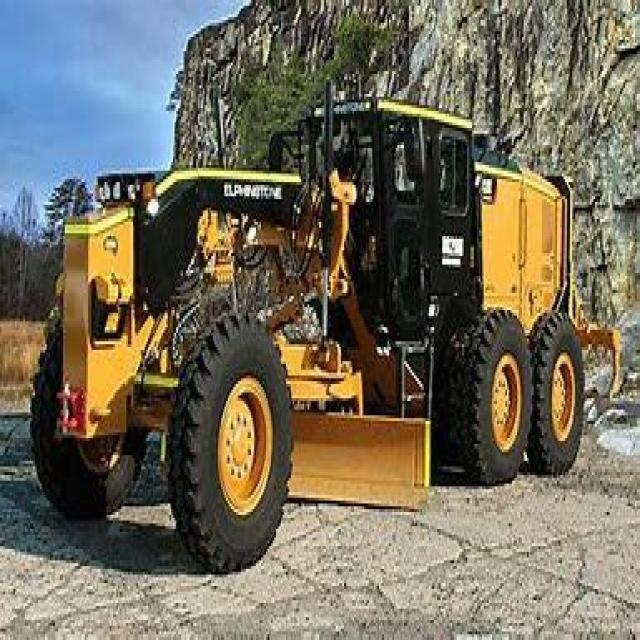Grader: (26, 57, 592, 572)
